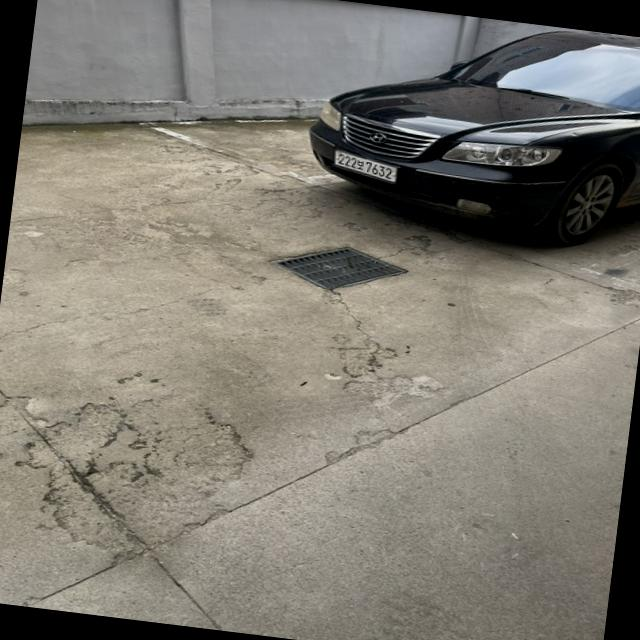drain_area: (276, 247, 405, 287)
drain_full: (276, 246, 406, 289)
